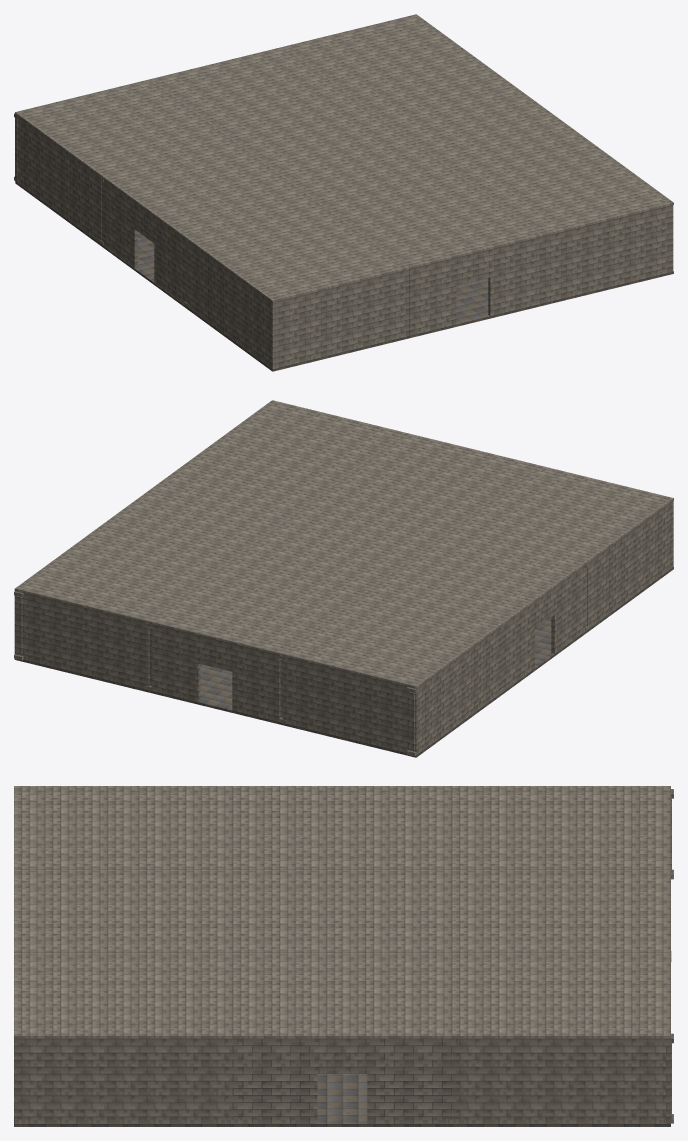
File: MOD_BigRoomCross.fbx
The picture shows the model from 3 angles, top to bottom: view 1: azimuth 30°, elevation 25°; view 2: azimuth 150°, elevation 25°; view 3: azimuth 270°, elevation 25°; orthographic projection. The views are drawn at different scales.
Parts seen in each view (by area): view 1: Ceiling.001, Ceiling.003, Ceiling.002, Ceiling.008, Ceiling.005, Ceiling.004, Ceiling.007, Ceiling.006, Ceiling.009, Wall_N.001, Wall_N.003, Wall_Side.002 (+10 smaller); view 2: Ceiling.005, Ceiling.004, Ceiling.006, Ceiling.008, Ceiling.001, Ceiling.003, Ceiling.007, Ceiling.009, Ceiling.002, Wall_N.002, Wall_N.004, Wall_Side.002 (+10 smaller); view 3: Ceiling.002, Ceiling.006, Ceiling.009, Wall_Side.001, Ceiling.001, Ceiling.003, Ceiling.004, Ceiling.005, Ceiling.007, Ceiling.008, Wall_Side.005, Wall_S.006 (+5 smaller).
Boxes of the visible parts, x1=… form: Ceiling.001: x1=186, y1=205, x2=406, y2=302; Ceiling.003: x1=321, y1=172, x2=540, y2=269; Ceiling.002: x1=454, y1=140, x2=673, y2=237; Ceiling.008: x1=101, y1=142, x2=319, y2=239; Ceiling.005: x1=15, y1=79, x2=234, y2=176; Ceiling.004: x1=149, y1=47, x2=367, y2=142; Ceiling.007: x1=235, y1=109, x2=453, y2=204; Ceiling.006: x1=283, y1=14, x2=501, y2=109; Ceiling.009: x1=369, y1=77, x2=587, y2=172; Wall_N.001: x1=537, y1=206, x2=670, y2=304; Wall_N.003: x1=276, y1=269, x2=409, y2=368; Wall_Side.002: x1=187, y1=242, x2=275, y2=369; Ceiling.005: x1=282, y1=591, x2=502, y2=688; Ceiling.004: x1=148, y1=558, x2=367, y2=656; Ceiling.006: x1=14, y1=526, x2=233, y2=623; Ceiling.008: x1=368, y1=528, x2=587, y2=625; Ceiling.001: x1=454, y1=465, x2=673, y2=562; Ceiling.003: x1=321, y1=433, x2=539, y2=528; Ceiling.007: x1=234, y1=495, x2=453, y2=590; Ceiling.009: x1=101, y1=463, x2=319, y2=558; Ceiling.002: x1=187, y1=400, x2=405, y2=495; Wall_N.002: x1=282, y1=657, x2=418, y2=755; Wall_N.004: x1=14, y1=593, x2=149, y2=688; Wall_Side.002: x1=587, y1=501, x2=673, y2=627; Ceiling.002: x1=14, y1=953, x2=232, y2=1038; Ceiling.006: x1=452, y1=953, x2=670, y2=1038; Ceiling.009: x1=233, y1=953, x2=451, y2=1038; Wall_Side.001: x1=14, y1=1039, x2=232, y2=1123; Ceiling.001: x1=14, y1=786, x2=232, y2=869; Ceiling.003: x1=14, y1=869, x2=232, y2=952; Ceiling.004: x1=452, y1=869, x2=670, y2=952; Ceiling.005: x1=452, y1=786, x2=670, y2=869; Ceiling.007: x1=233, y1=869, x2=451, y2=952; Ceiling.008: x1=233, y1=786, x2=451, y2=869; Wall_Side.005: x1=452, y1=1037, x2=671, y2=1123; Wall_S.006: x1=233, y1=1039, x2=317, y2=1123.
Size of the model in its own units: 3783 by 640 by 4219.
